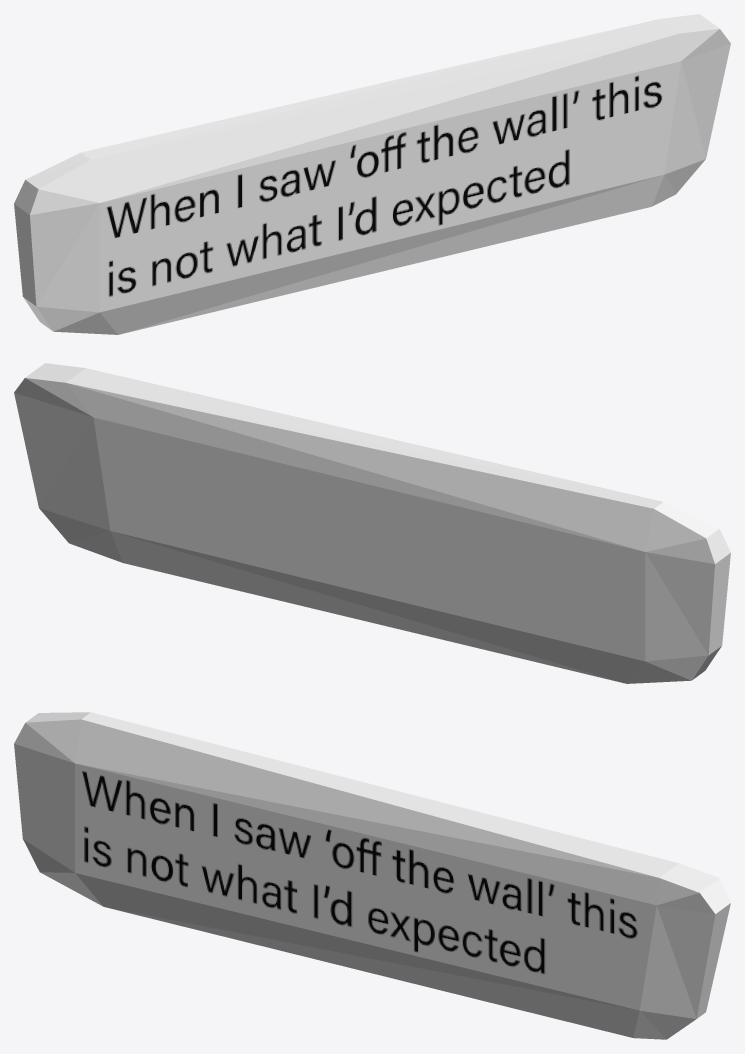
Rendered from 042620wallAntTextBubbleTextured.gltf.
3 renders of one model, top to bottom at view 1: azimuth 30°, elevation 25°; view 2: azimuth 150°, elevation 25°; view 3: azimuth 330°, elevation 25°, orthographic.
Visible parts, largest first — view 1: wallAnt; view 2: wallAnt; view 3: wallAnt.
Part boxes in pixels (x1,y1,x2,y2): wallAnt: (14,14,730,334); wallAnt: (14,363,730,683); wallAnt: (14,712,730,1039).
Bounding box in the file's own units: 6.7 × 1.64 × 0.4079.
1 material, 1 textured.
